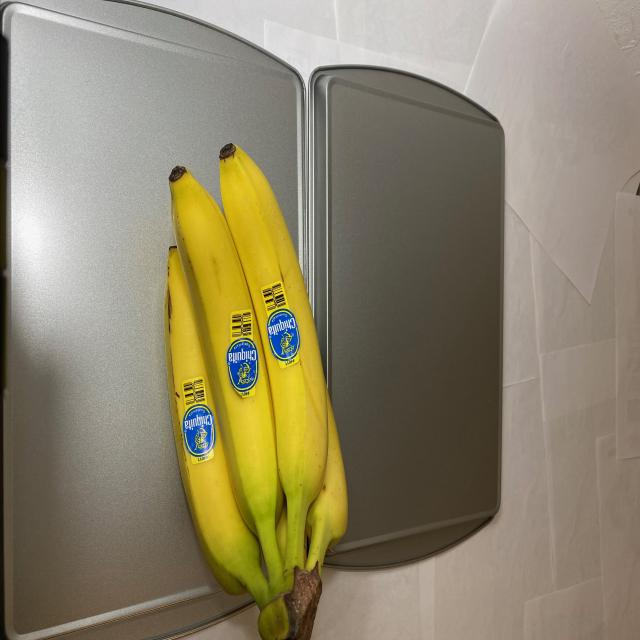Banana: (140, 140, 352, 625)
